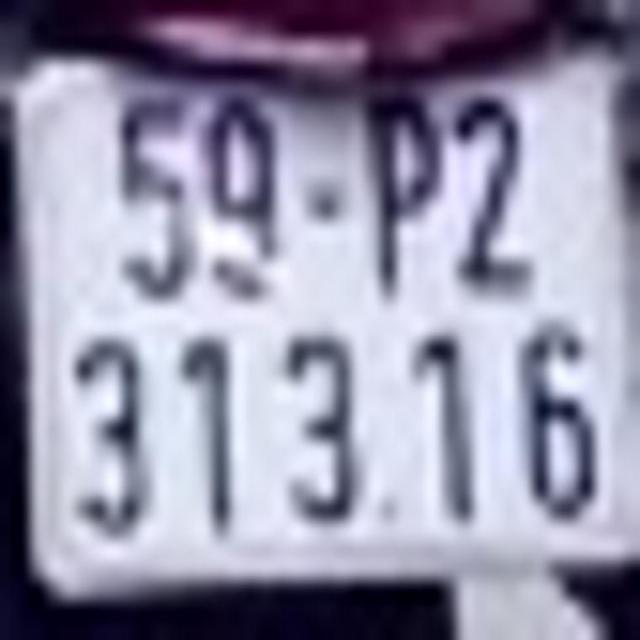1: (408, 326, 482, 534), (176, 323, 243, 536)
2: (456, 87, 542, 304)
3: (272, 324, 360, 530), (72, 327, 149, 547)
5: (113, 92, 196, 308)
6: (507, 306, 602, 529)
9: (203, 92, 287, 303)
P: (363, 86, 449, 310)
